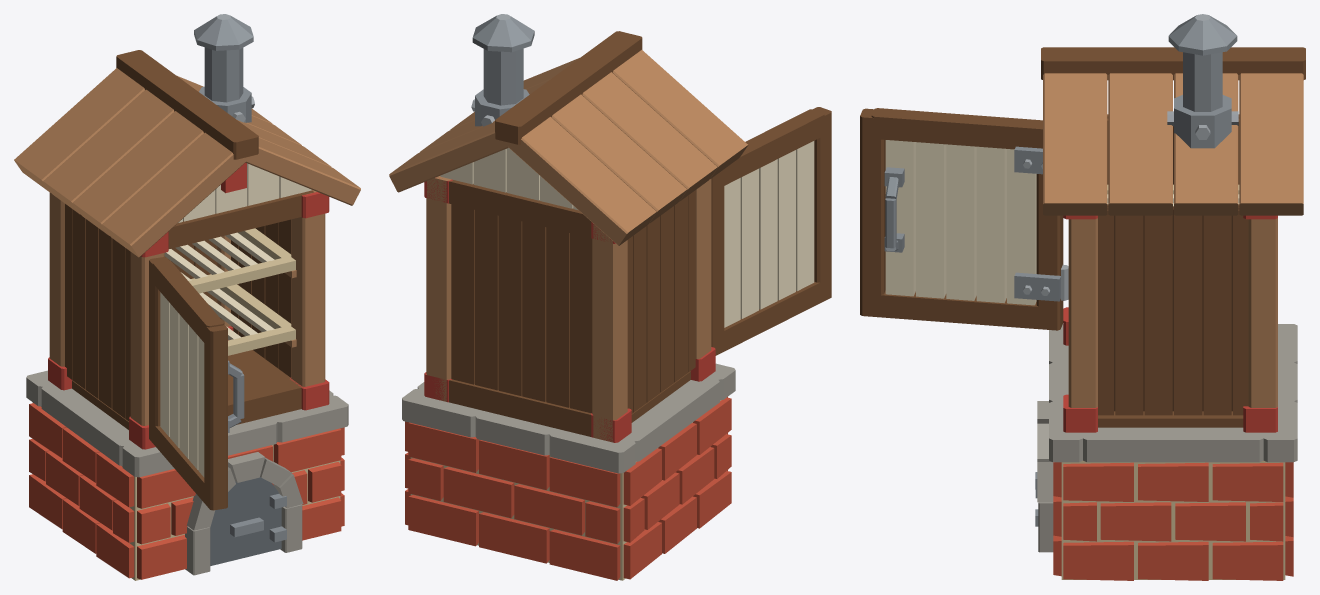
Rendered from FMS_Workshop_STA_11.fbx.
3 views of the same model, side by side, from view 1: azimuth 30°, elevation 25°; view 2: azimuth 150°, elevation 25°; view 3: azimuth 270°, elevation 25° (orthographic). The views are drawn at different scales.
Parts seen in each view (by area): view 1: FMS_Workshop_STA_11_Body, FMS_Workshop_STA_11_Door, FMS_Workshop_STA_11; view 2: FMS_Workshop_STA_11_Body, FMS_Workshop_STA_11_Door; view 3: FMS_Workshop_STA_11_Body, FMS_Workshop_STA_11_Door.
Part boxes in pixels (x1,y1,x2,y2): FMS_Workshop_STA_11_Body: (14,14,360,580); FMS_Workshop_STA_11_Door: (149,257,244,510); FMS_Workshop_STA_11: (164,228,295,355); FMS_Workshop_STA_11_Body: (389,14,748,580); FMS_Workshop_STA_11_Door: (711,107,831,355); FMS_Workshop_STA_11_Body: (1035,14,1305,580); FMS_Workshop_STA_11_Door: (860,108,1068,330).
Bounding box in the file's own units: 0.9068 × 1.8 × 1.36.
1 material, 1 textured.
